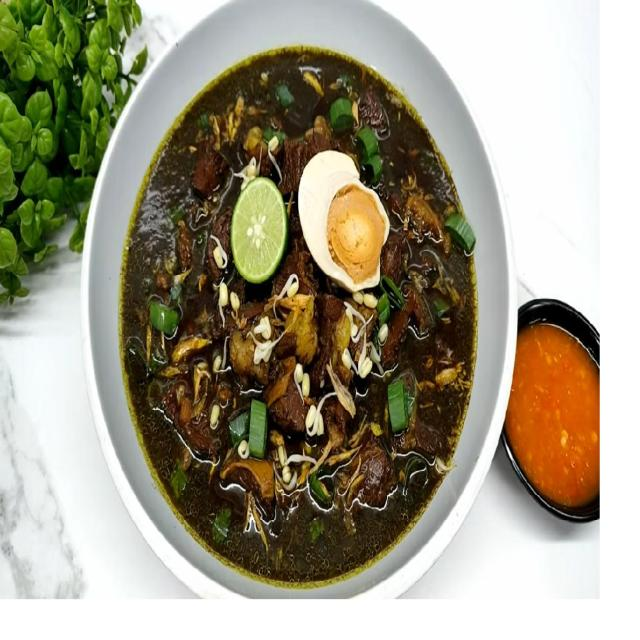Rawon: (123, 57, 465, 570)
